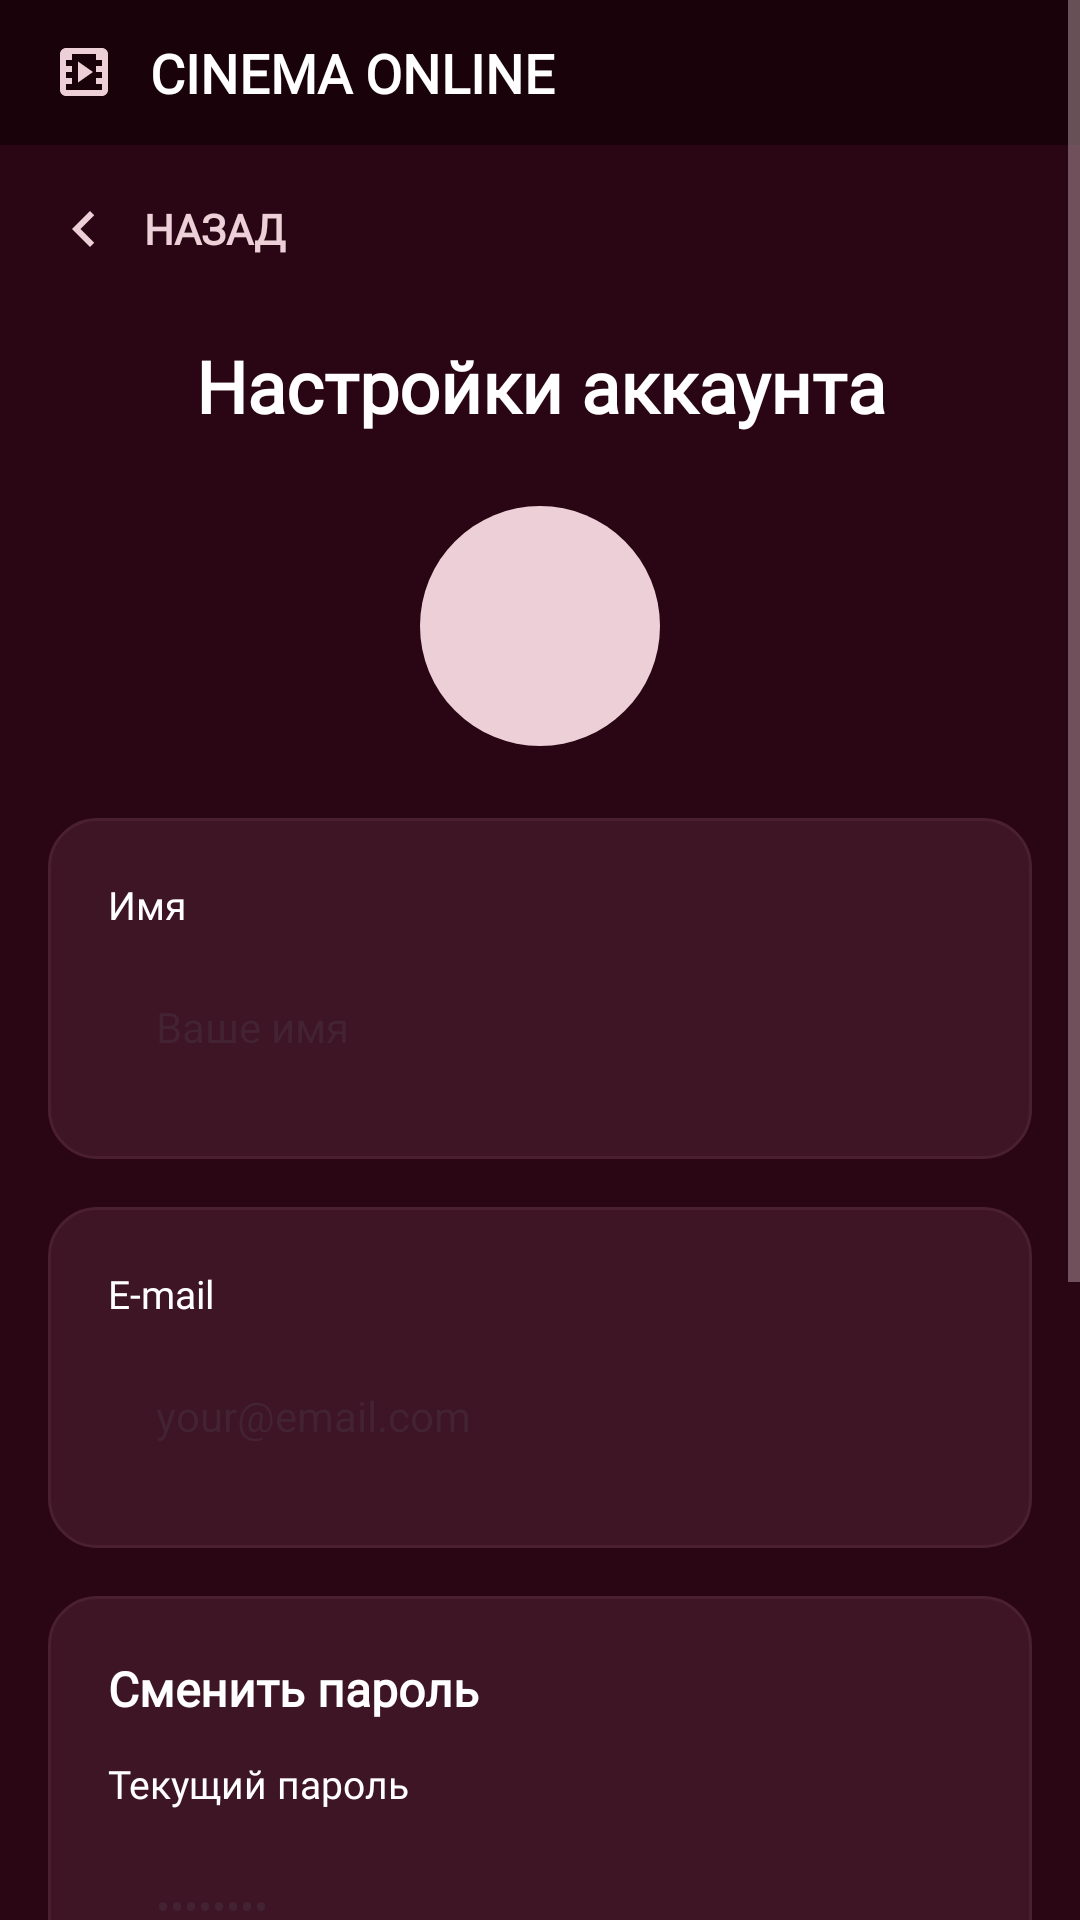

Icons on this 1080x1920 Android screen, each with the point to tap as point (x, y):
arrow back: point (83, 229)
